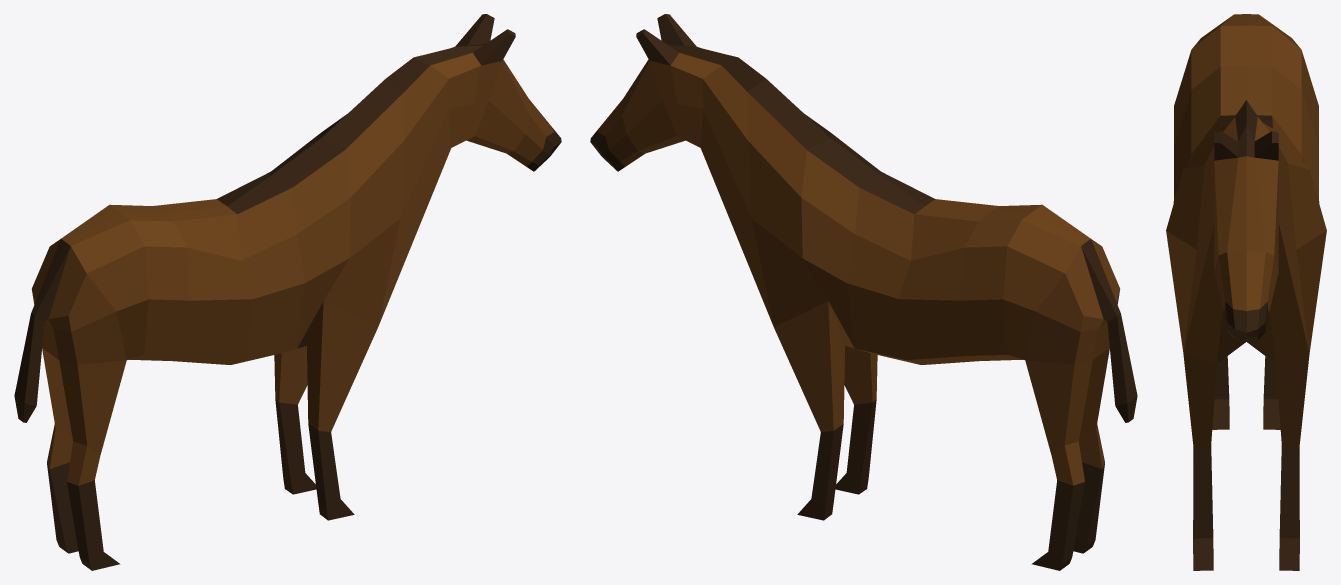
File: horse.fbx
The picture shows the model from 3 angles, left to right: view 1: azimuth 30°, elevation 25°; view 2: azimuth 150°, elevation 25°; view 3: azimuth 270°, elevation 25°; orthographic projection. The views are drawn at different scales.
Visible parts, largest first — view 1: Horse; view 2: Horse; view 3: Horse.
Part boxes in pixels (box(x1,y1,x2,y2)): Horse: box(14, 14, 561, 570); Horse: box(590, 14, 1137, 570); Horse: box(1166, 14, 1326, 570).
Size of the model in its own units: 186 by 143 by 38.78.
